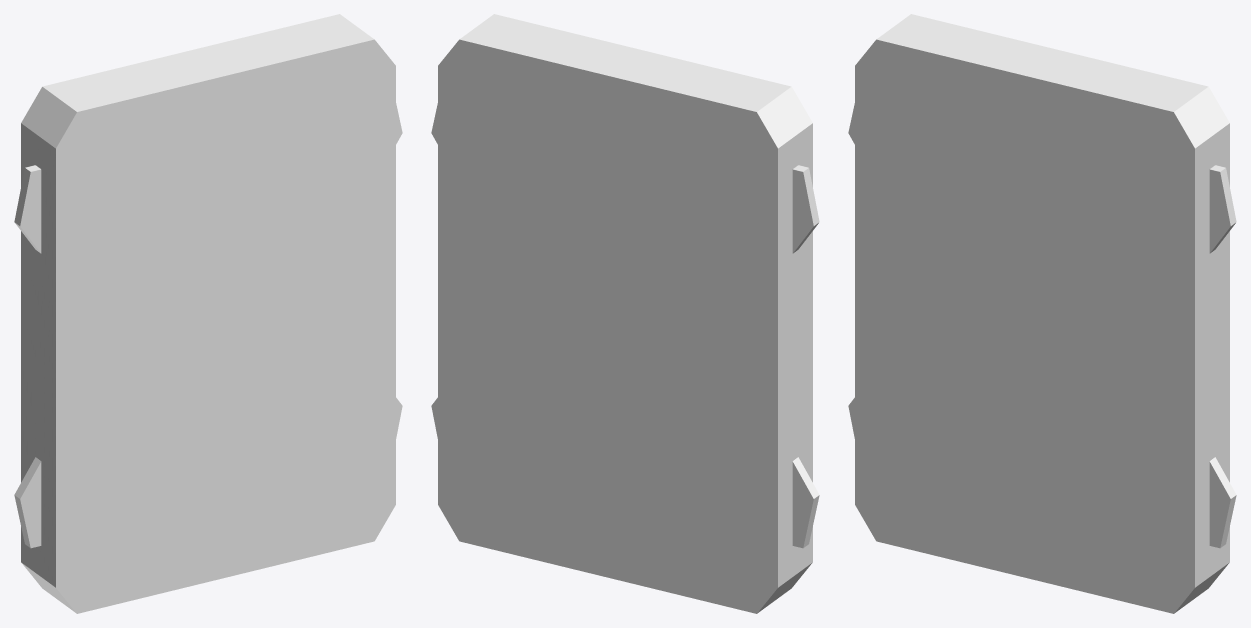
File: cardUncommon.fbx
3 renders of one model, left to right at view 1: azimuth 30°, elevation 25°; view 2: azimuth 150°, elevation 25°; view 3: azimuth 330°, elevation 25°, orthographic.
Parts seen in each view (by area): view 1: emission; view 2: emission; view 3: emission.
Boxes of the visible parts, x1=… form: emission: x1=14, y1=14, x2=402, y2=613; emission: x1=431, y1=14, x2=819, y2=613; emission: x1=848, y1=14, x2=1236, y2=613.
Bounding box in the file's own units: 119 × 149 × 18.75.
Materials: 1 (1 with a texture image).
